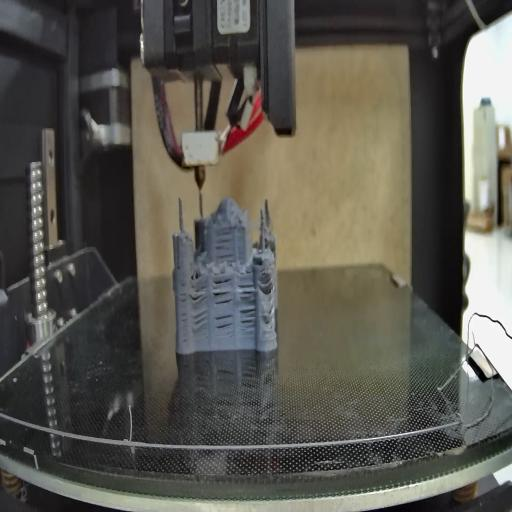cracks: (237, 280, 257, 334), (214, 224, 238, 262), (211, 274, 235, 307), (178, 279, 188, 343), (189, 277, 208, 306), (191, 312, 210, 336), (214, 311, 232, 336), (262, 271, 276, 300), (261, 306, 276, 329)
